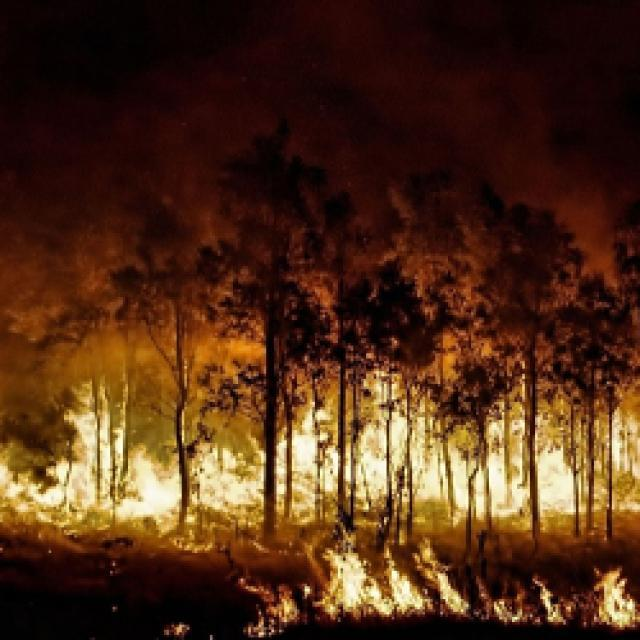Fire: (0, 359, 637, 536), (193, 528, 640, 638)
Smoke: (3, 107, 626, 300)
